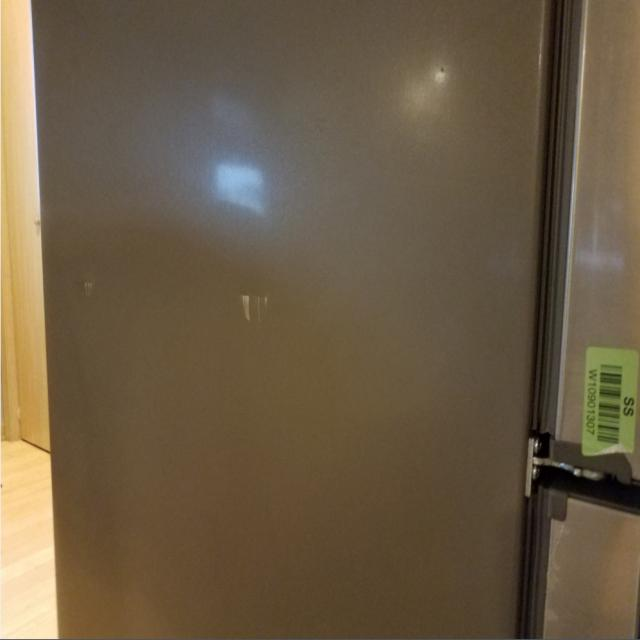dents: (225, 281, 298, 330), (57, 274, 116, 317)
